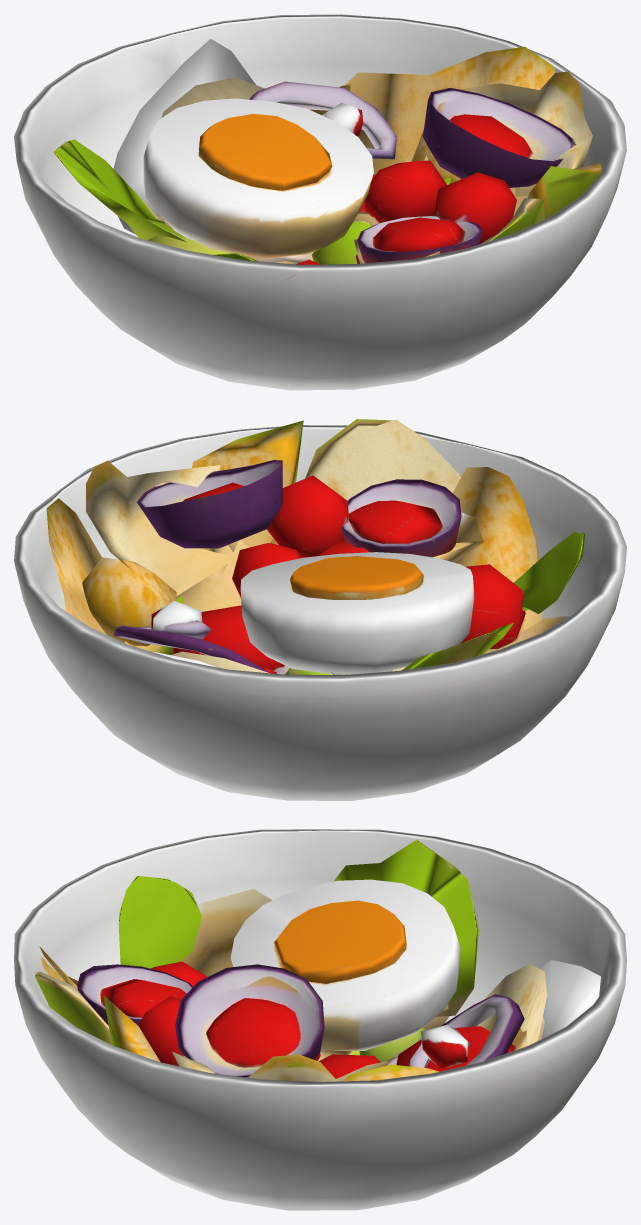
File: food_salad.glb
The picture shows the model from 3 angles, top to bottom: view 1: azimuth 30°, elevation 25°; view 2: azimuth 150°, elevation 25°; view 3: azimuth 270°, elevation 25°; orthographic projection.
Bounding box in the file's own units: 1 × 0.3735 × 1.
Materials: 1 (1 with a texture image).
